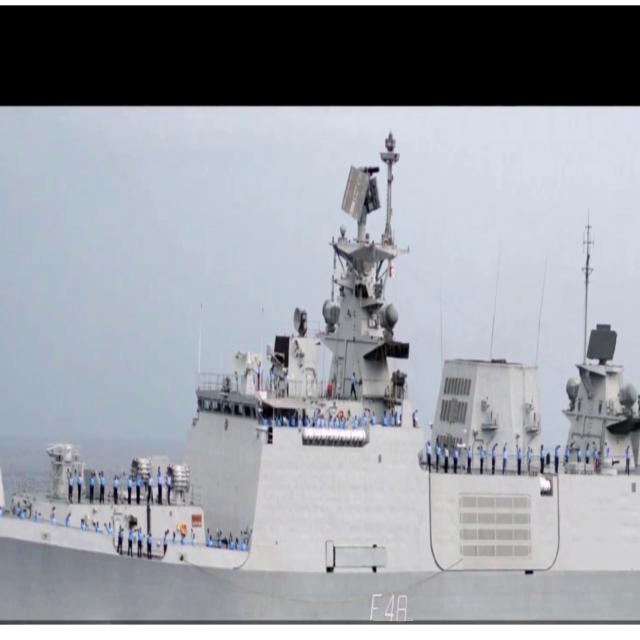OCR: (361, 584, 413, 621)
